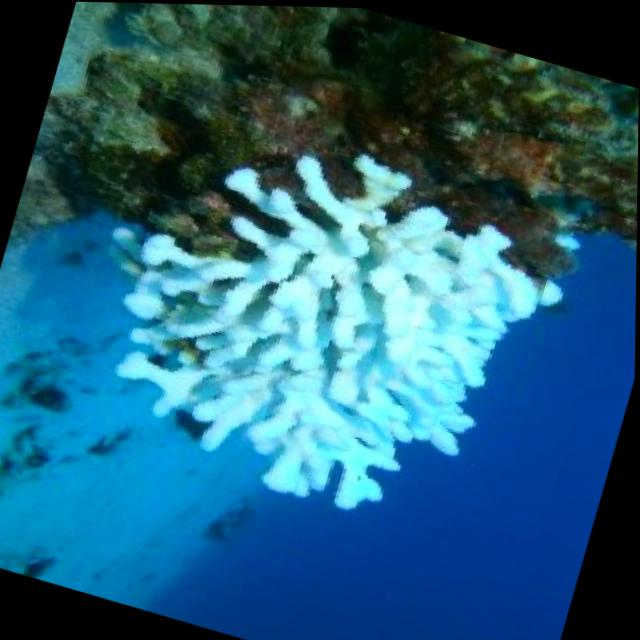Bleached Coral: (77, 97, 601, 564)
